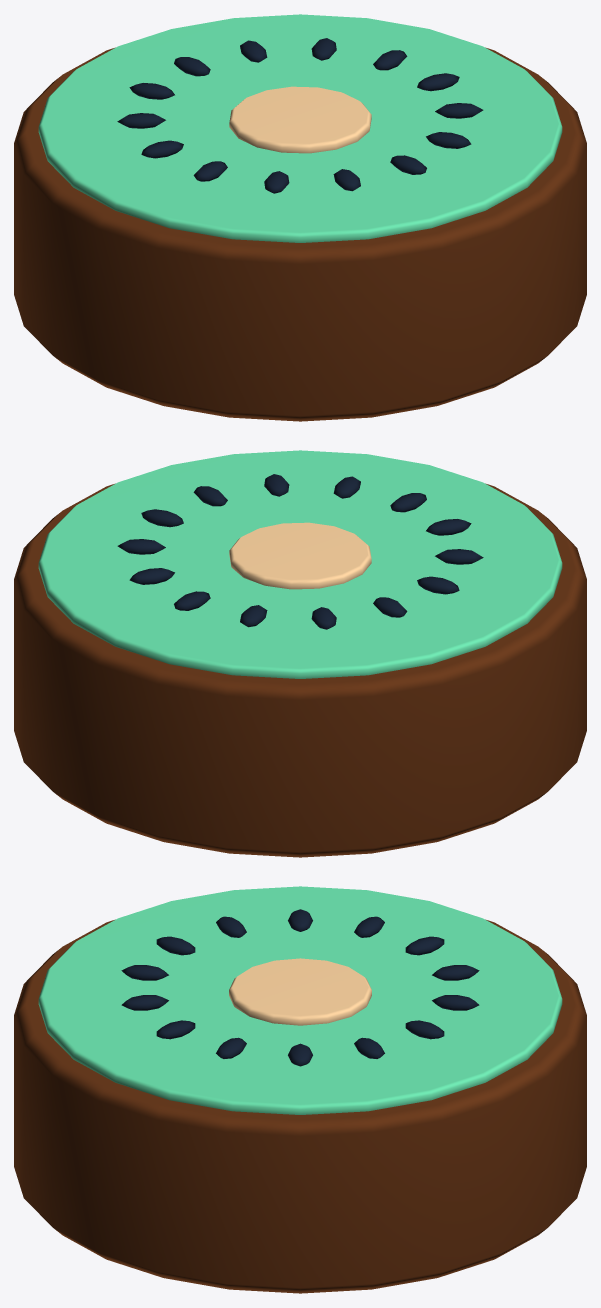
File: kiwi.glb
3 renders of one model, top to bottom at view 1: azimuth 30°, elevation 25°; view 2: azimuth 150°, elevation 25°; view 3: azimuth 270°, elevation 25°, orthographic.
Visible parts, largest first — view 1: kiwi; view 2: kiwi; view 3: kiwi.
Boxes of the visible parts, <box> form: kiwi: <box>14,14,586,421</box>; kiwi: <box>14,450,586,857</box>; kiwi: <box>14,886,586,1293</box>.
Bounding box in the file's own units: 1 × 0.3764 × 1.
Materials: 1 (1 with a texture image).
